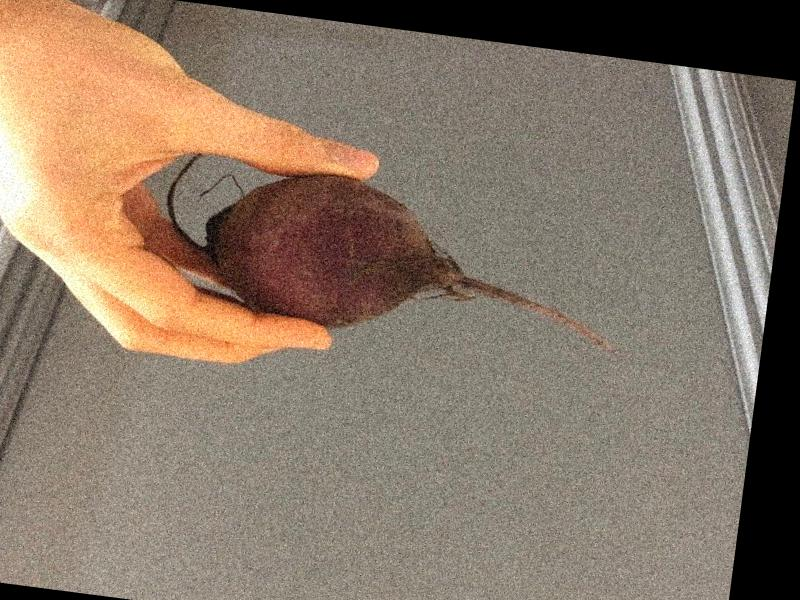Beet: (156, 152, 642, 362)
